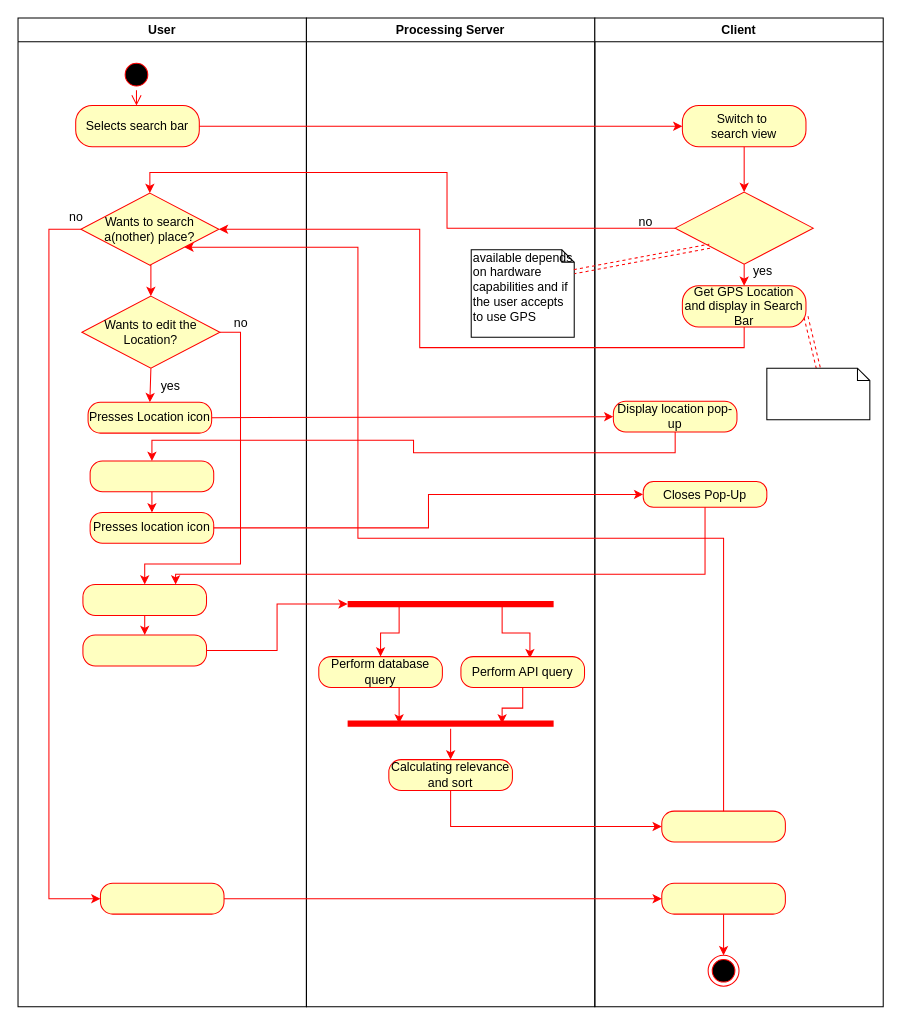
Some shapes in this 901 by 1025 pixel diagram are drawn without their labels. The shapes that lost their labels are listed below. From the top down, each one's centre as x and y in pixels, then its label:
At [743,227]: "GPS Location available?".
At [818,393]: "Only the curremt town is displayed to the user".
At [151,476]: "Enters Location Name".
At [144,599]: "Enters search request".
At [144,650]: "Presses Enter/Search button".
At [723,826]: "Display Results".
At [161,898]: "Presses back".
At [723,898]: "Switch back to Timtline".
